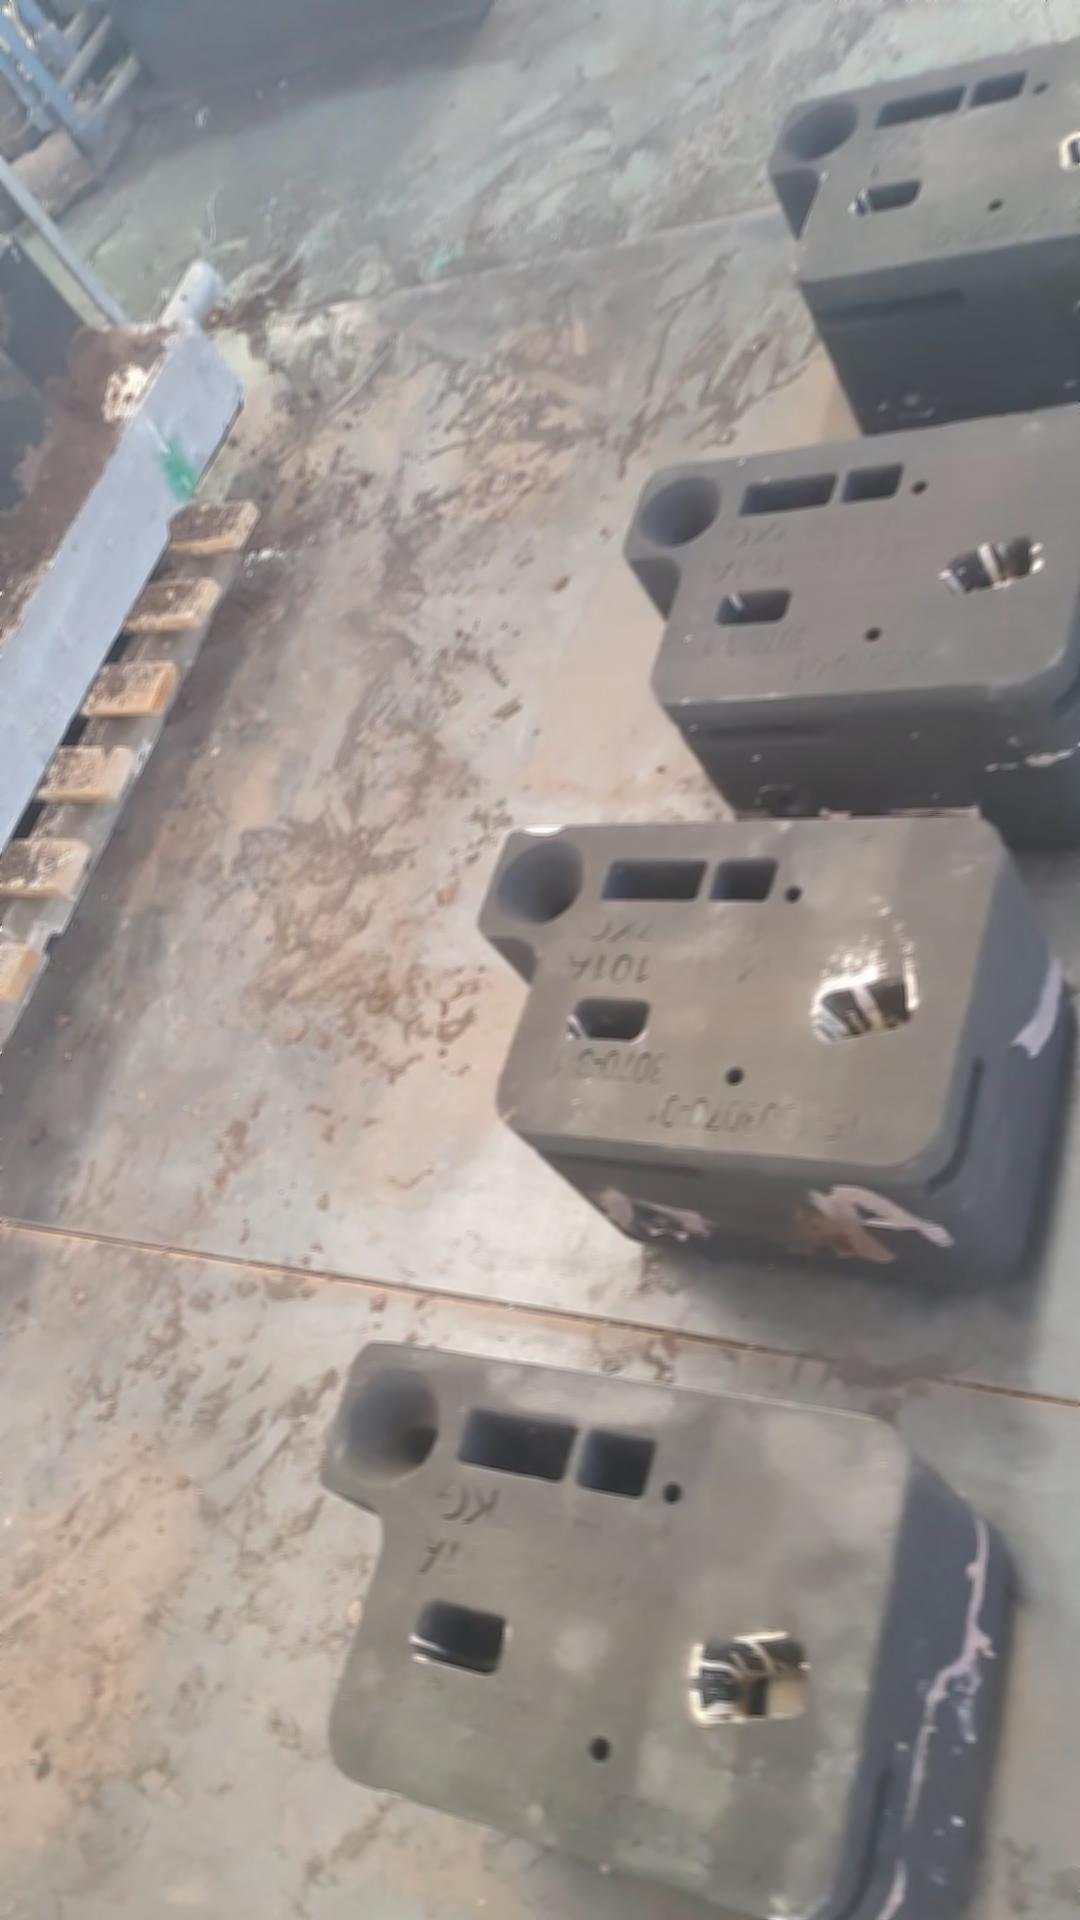pouring hole: (340, 1365, 436, 1485), (495, 837, 582, 924), (640, 476, 723, 545), (782, 100, 861, 162)
